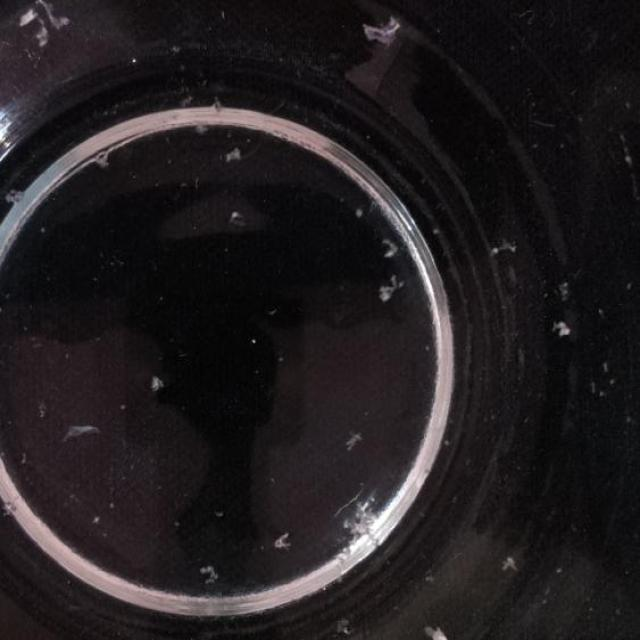fiber: (341, 489, 385, 576), (20, 0, 75, 59), (363, 16, 408, 55), (551, 308, 585, 352), (380, 274, 412, 308), (486, 236, 524, 262), (64, 420, 104, 441), (196, 560, 227, 586), (378, 235, 413, 258), (344, 428, 370, 452), (273, 530, 296, 557), (148, 374, 173, 398), (222, 142, 245, 166), (334, 615, 358, 637), (424, 621, 449, 640), (229, 208, 249, 228), (506, 551, 520, 579)
